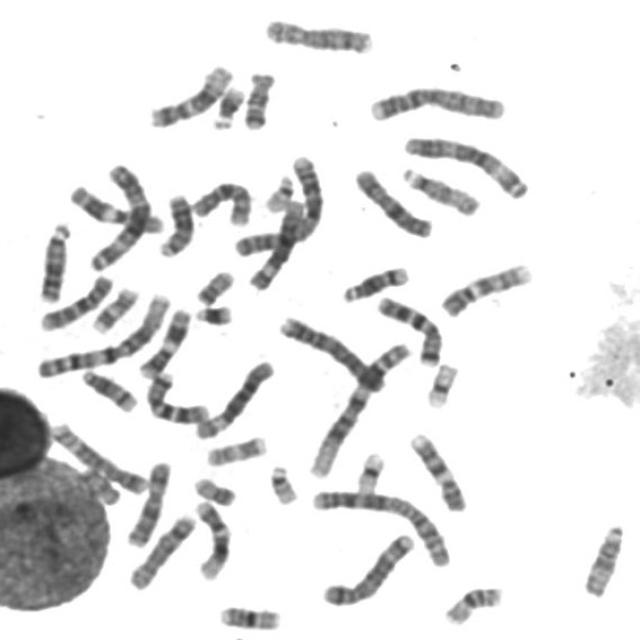A1: (304, 336, 415, 480), (32, 286, 176, 381)
A2: (308, 484, 456, 568), (230, 150, 330, 258)
A3: (398, 129, 533, 200), (84, 158, 154, 274)
B4: (274, 308, 392, 396), (364, 80, 510, 122)
B5: (45, 417, 152, 496), (319, 526, 418, 608)
C10: (35, 269, 118, 333), (188, 175, 255, 228)
C11: (64, 179, 168, 235), (134, 301, 196, 379)
C12: (144, 57, 238, 131), (191, 496, 235, 582)
C6: (190, 354, 278, 441), (244, 195, 309, 292)
C7: (372, 289, 447, 368), (141, 366, 214, 425)
C8: (124, 508, 200, 592), (260, 12, 378, 55)
C9: (436, 256, 536, 319), (405, 426, 470, 514)
D13: (34, 216, 75, 304), (154, 187, 198, 258)
D14: (338, 259, 414, 304), (77, 362, 141, 413)
D15: (397, 160, 484, 217), (579, 518, 629, 600)
E16: (440, 580, 506, 628), (214, 598, 286, 632)
E17: (87, 282, 143, 336), (202, 429, 270, 468)
E18: (239, 65, 279, 131), (74, 464, 126, 512)
F19: (422, 356, 462, 411), (352, 446, 389, 494)
F20: (192, 264, 238, 306), (189, 471, 240, 508)
G21: (208, 80, 249, 130), (190, 298, 237, 328)
G22: (265, 458, 303, 506), (260, 168, 297, 214)
X: (349, 163, 436, 240), (122, 455, 175, 549)
